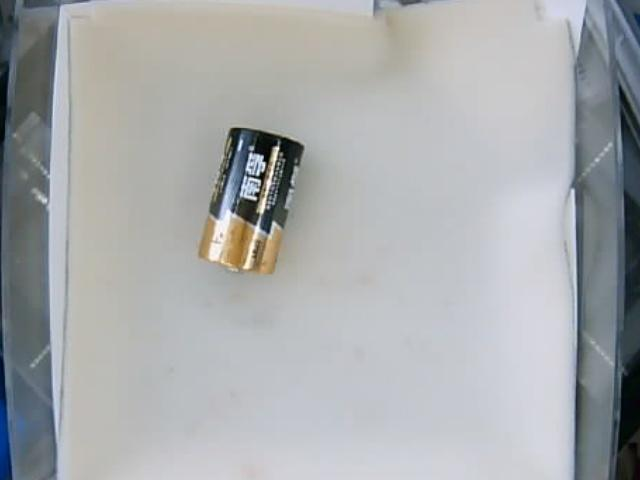Battery: (196, 127, 306, 276)
